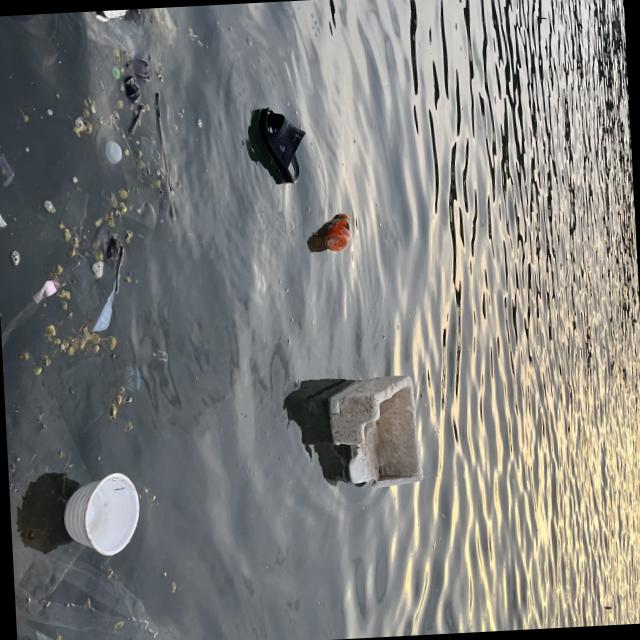foam: (323, 376, 422, 492), (64, 472, 140, 558)
plastic: (324, 214, 352, 253)
plastic bottle: (0, 280, 61, 347), (120, 172, 164, 228), (90, 278, 122, 332), (105, 140, 124, 164)
unknow: (258, 106, 308, 184), (96, 9, 138, 21), (0, 173, 7, 230)
